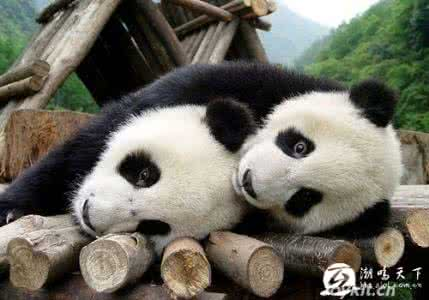panda: (1, 61, 407, 236), (68, 97, 262, 244)
